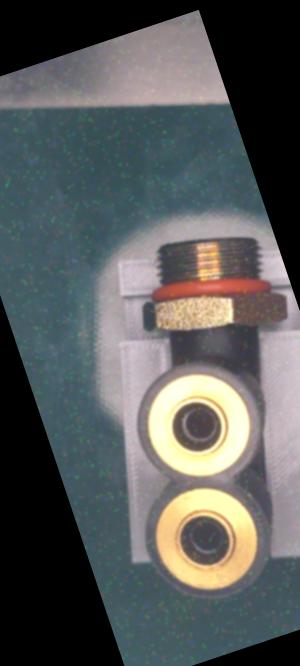white mark: (195, 318, 218, 341)
